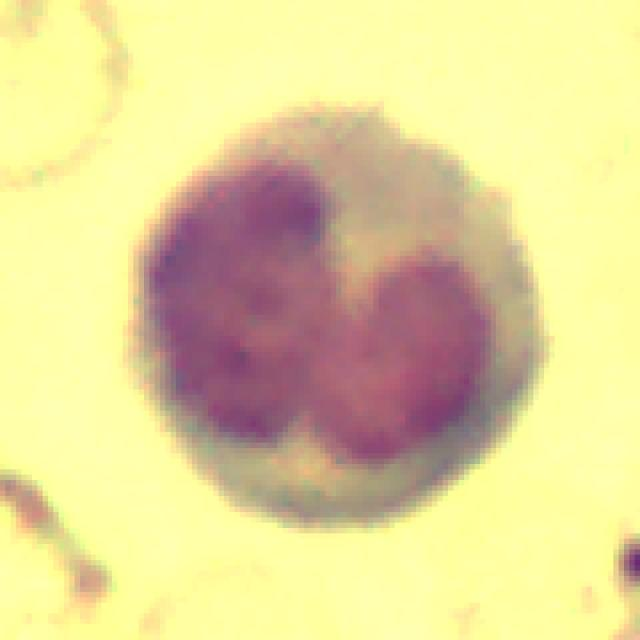WBC: (112, 80, 576, 549)
